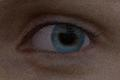eye: (53, 26, 84, 51)
